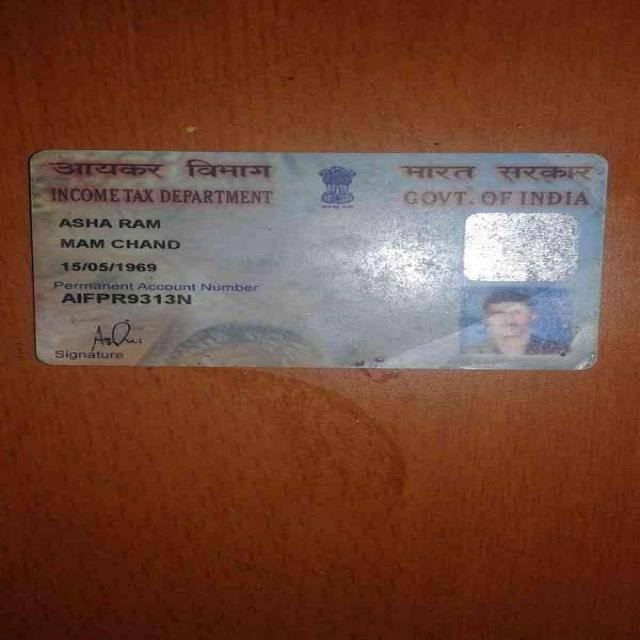pan_card: (30, 155, 600, 367)
